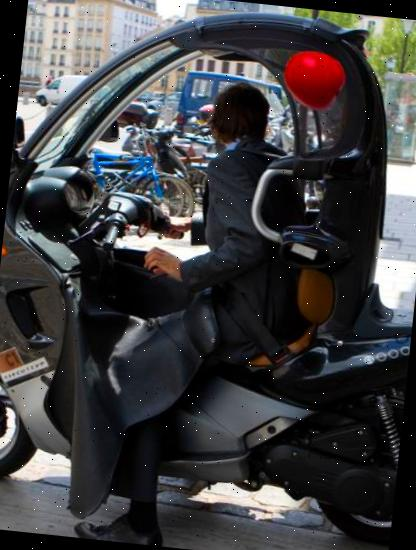Tomato: (279, 46, 346, 113)
